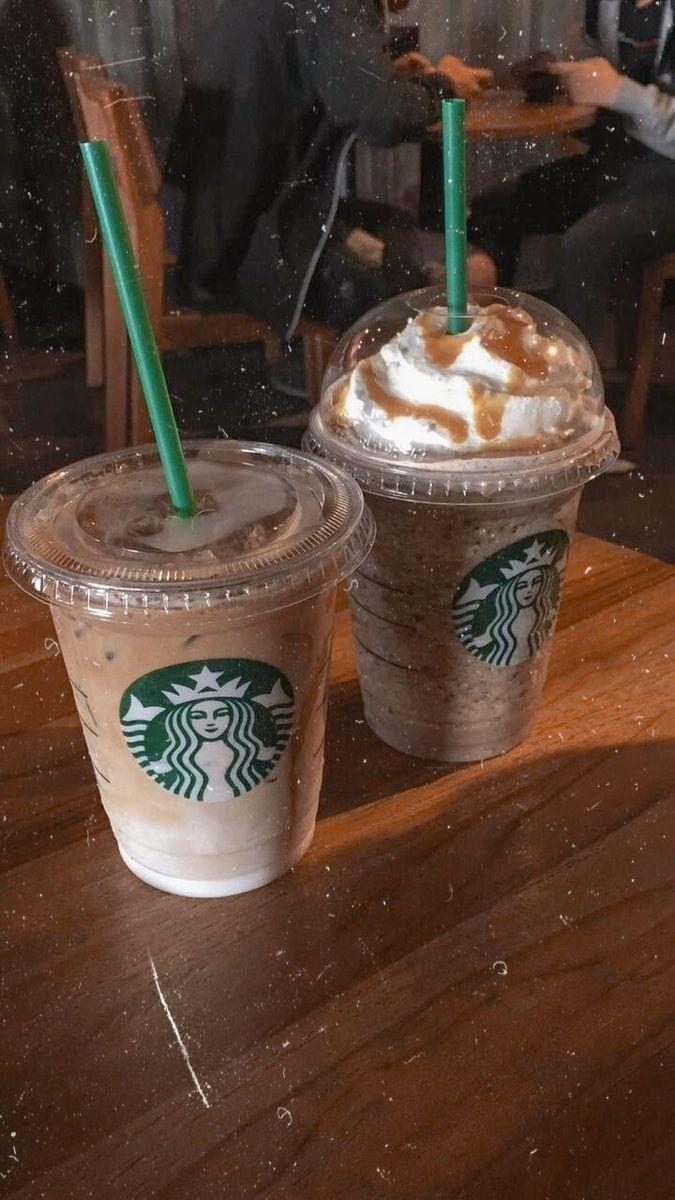cup-disposable: (3, 434, 376, 898), (303, 279, 612, 765)
